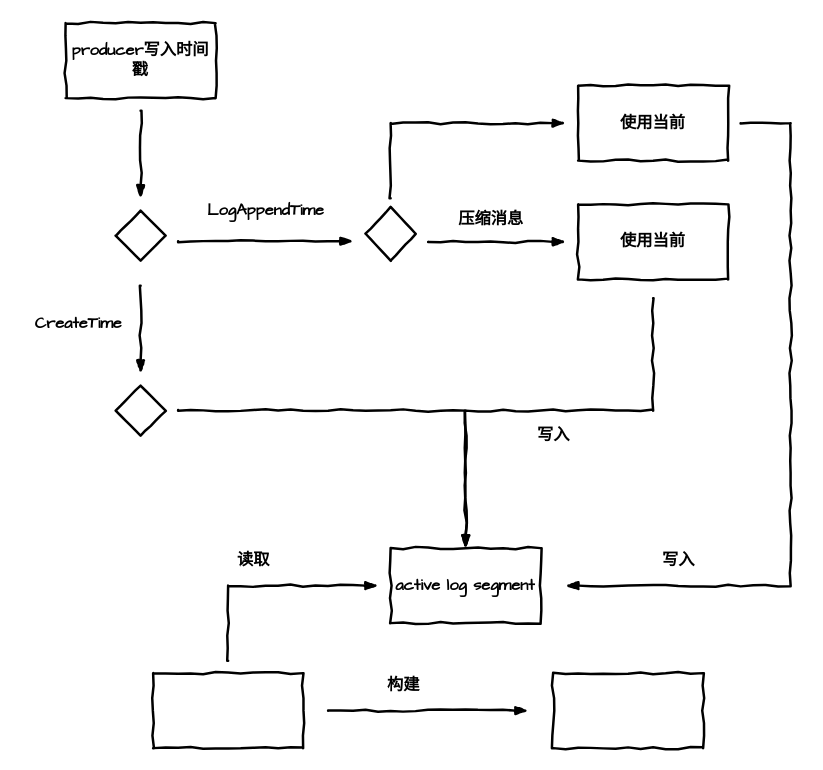
Some shapes in this 823 by 770 pixel diagram are drawn without their labels. Here are the shapes that lost their labels. From the top down, the centre of each, then its label:
[227,710]: leader&follower
[627,710]: index file
